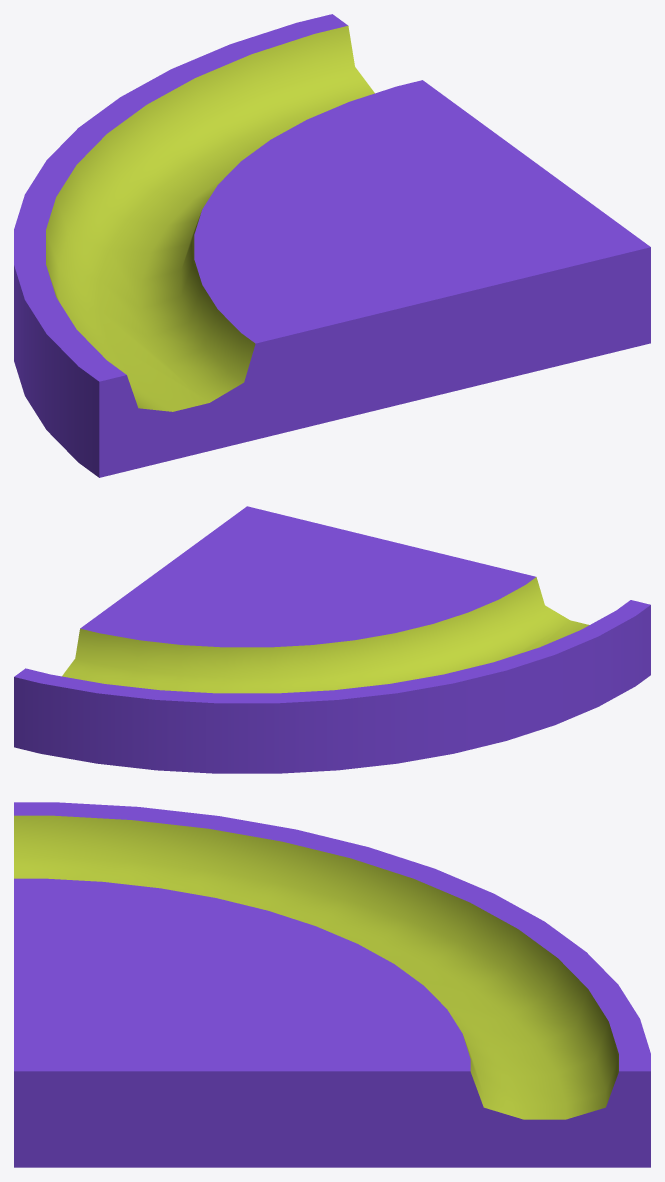
Rendered from curve_solid_large-col.dae.
The picture shows the model from 3 angles, top to bottom: view 1: azimuth 30°, elevation 25°; view 2: azimuth 150°, elevation 25°; view 3: azimuth 270°, elevation 25°; orthographic projection. The views are drawn at different scales.
Visible parts, largest first — view 1: curve_solid_large-col; view 2: curve_solid_large-col; view 3: curve_solid_large-col.
Part boxes in pixels (x1,y1,x2,y2): curve_solid_large-col: [14, 14, 650, 477]; curve_solid_large-col: [14, 506, 650, 773]; curve_solid_large-col: [14, 802, 650, 1167].
Bounding box in the file's own units: 3 × 3 × 0.5.
